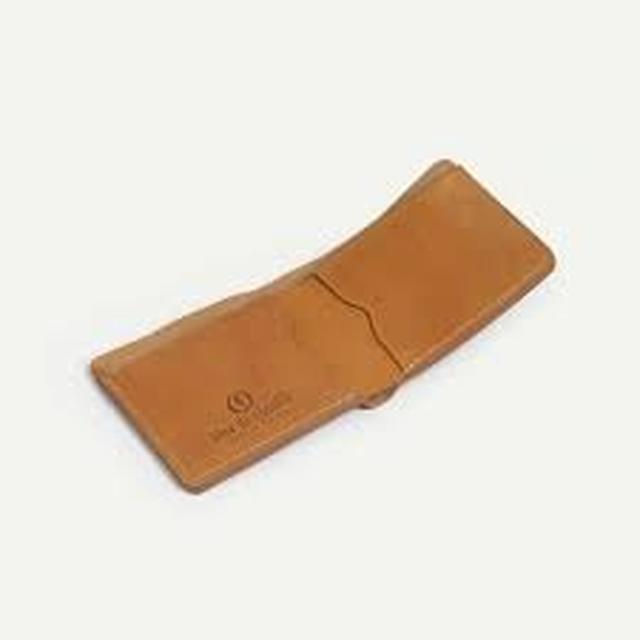wallet: (57, 128, 583, 514)
